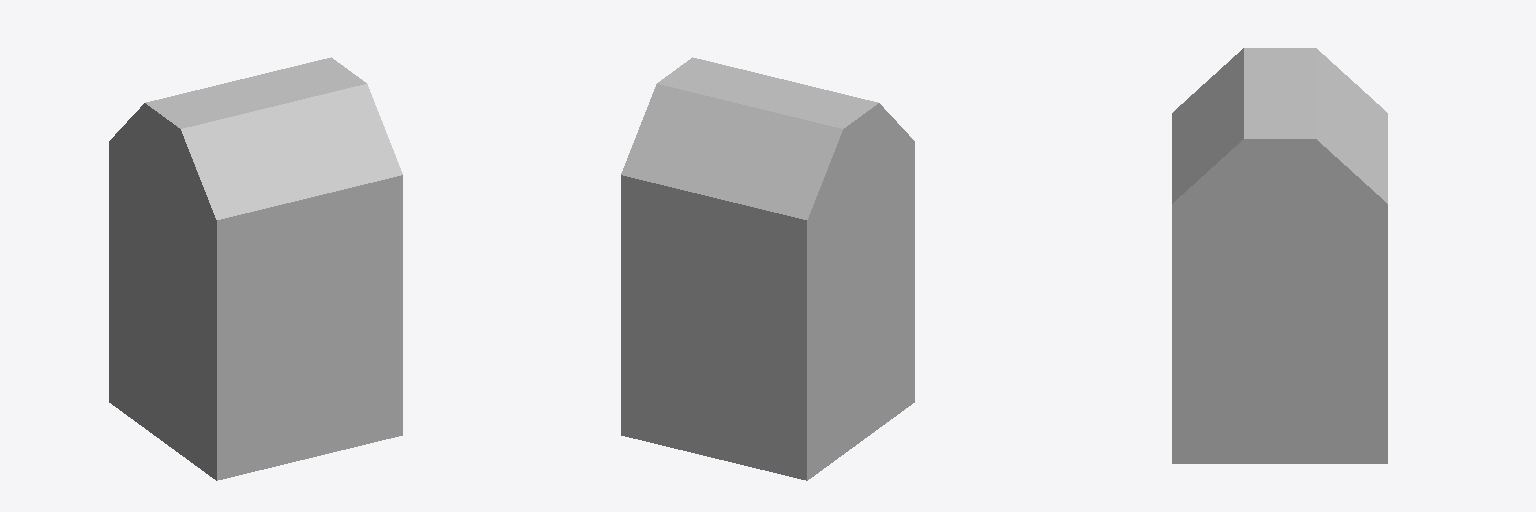
Rendered from House2.obj.
The picture shows the model from 3 angles: view 1: azimuth 30°, elevation 25°; view 2: azimuth 150°, elevation 25°; view 3: azimuth 270°, elevation 25°; orthographic projection.
Visible parts, largest first — view 1: Plane.174_Plane.186, Plane.175_Plane.187, Plane.165_Plane.177, Plane.141_Plane.153, Plane.190_Plane.202, Plane.137_Plane.149, Plane.138_Plane.150, Plane.142_Plane.154, Plane.153_Plane.165, Plane.155_Plane.167, Plane.161_Plane.173, Plane.159_Plane.171 (+21 smaller); view 2: Plane.176_Plane.188, Plane.177_Plane.189, Plane.178_Plane.190, Plane.139_Plane.151, Plane.191_Plane.203, Plane.130_Plane.142, Plane.131_Plane.143, Plane.140_Plane.152, Plane.149_Plane.161, Plane.154_Plane.166, Plane.164_Plane.176, Plane.162_Plane.174 (+21 smaller); view 3: Plane.143_Plane.155, Plane.144_Plane.156, Plane.145_Plane.157, Plane.146_Plane.158, Plane.147_Plane.159, Plane.148_Plane.160, Plane.156_Plane.168, Plane.157_Plane.169, Plane.158_Plane.170, Plane.168_Plane.180, Plane.187_Plane.199, Plane.188_Plane.200 (+12 smaller).
Part boxes in pixels (left/top/right/bottom): Plane.174_Plane.186: left=243, top=99, right=340, bottom=204; Plane.175_Plane.187: left=305, top=84, right=402, bottom=189; Plane.165_Plane.177: left=181, top=114, right=277, bottom=219; Plane.141_Plane.153: left=341, top=370, right=402, bottom=449; Plane.190_Plane.202: left=279, top=321, right=340, bottom=400; Plane.137_Plane.149: left=217, top=401, right=278, bottom=480; Plane.138_Plane.150: left=217, top=271, right=278, bottom=350; Plane.142_Plane.154: left=341, top=240, right=402, bottom=319; Plane.153_Plane.165: left=217, top=205, right=278, bottom=284; Plane.155_Plane.167: left=341, top=175, right=402, bottom=254; Plane.161_Plane.173: left=279, top=190, right=340, bottom=269; Plane.159_Plane.171: left=279, top=386, right=340, bottom=465; Plane.176_Plane.188: left=621, top=84, right=718, bottom=189; Plane.177_Plane.189: left=683, top=99, right=780, bottom=204; Plane.178_Plane.190: left=746, top=114, right=842, bottom=219; Plane.139_Plane.151: left=621, top=370, right=682, bottom=449; Plane.191_Plane.203: left=683, top=321, right=744, bottom=400; Plane.130_Plane.142: left=745, top=401, right=806, bottom=480; Plane.131_Plane.143: left=745, top=271, right=806, bottom=350; Plane.140_Plane.152: left=621, top=240, right=682, bottom=319; Plane.149_Plane.161: left=745, top=205, right=806, bottom=284; Plane.154_Plane.166: left=621, top=175, right=682, bottom=254; Plane.164_Plane.176: left=683, top=190, right=744, bottom=269; Plane.162_Plane.174: left=683, top=386, right=744, bottom=465; Plane.143_Plane.155: left=1172, top=399, right=1243, bottom=463; Plane.144_Plane.156: left=1172, top=269, right=1243, bottom=333; Plane.145_Plane.157: left=1244, top=399, right=1315, bottom=463; Plane.146_Plane.158: left=1244, top=269, right=1315, bottom=333; Plane.147_Plane.159: left=1316, top=399, right=1387, bottom=463; Plane.148_Plane.160: left=1316, top=269, right=1387, bottom=333; Plane.156_Plane.168: left=1172, top=204, right=1243, bottom=268; Plane.157_Plane.169: left=1244, top=204, right=1315, bottom=268; Plane.158_Plane.170: left=1316, top=204, right=1387, bottom=268; Plane.168_Plane.180: left=1244, top=139, right=1315, bottom=203; Plane.187_Plane.199: left=1172, top=334, right=1243, bottom=398; Plane.188_Plane.200: left=1244, top=334, right=1315, bottom=398.
Bounding box in the file's own units: 6 × 10 × 6.